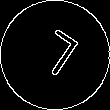L_SW: (28, 25, 82, 85)
